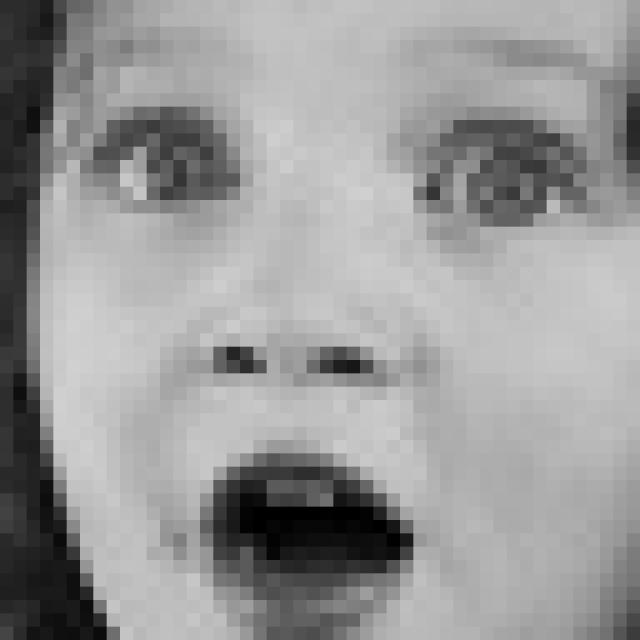surprise: (79, 22, 622, 640)
